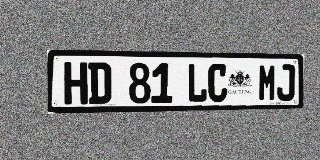1: (151, 63, 172, 103)
8: (129, 63, 151, 104)
C: (208, 64, 228, 102)
D: (88, 62, 111, 104)
H: (64, 62, 88, 105)
J: (277, 64, 295, 101)
L: (187, 63, 207, 103)
M: (258, 64, 277, 101)
